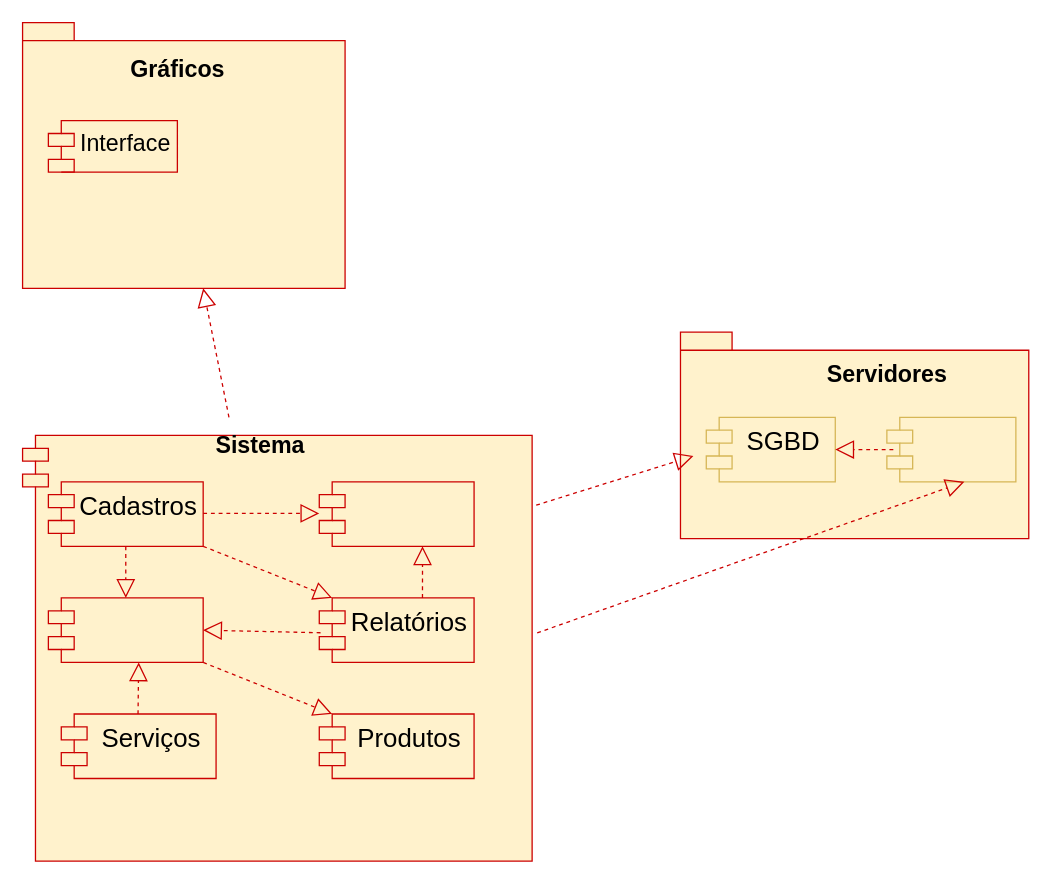
Image size: 1051x884. Some labels were removed from this diagram. The box of each missing label's shape, as (x1, y1, x2, y2) in pixels:
Compras: (318, 481, 474, 546)
Vendas: (47, 597, 203, 662)
Web: (886, 416, 1016, 482)
